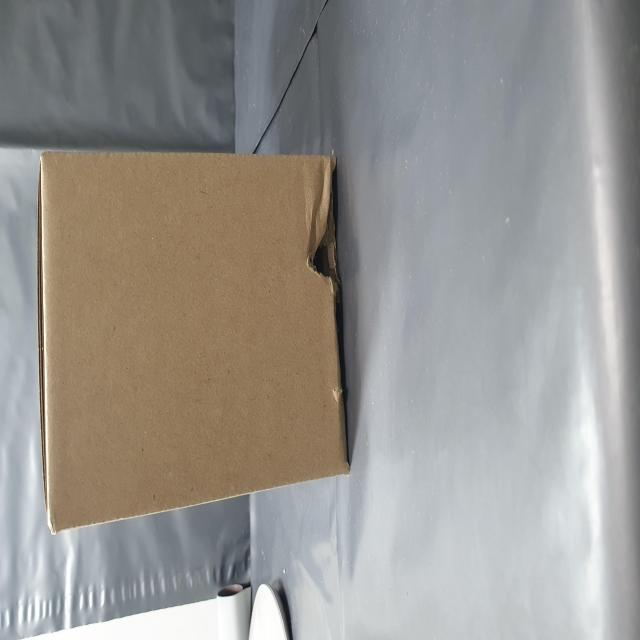damaged: (194, 542, 272, 598)
